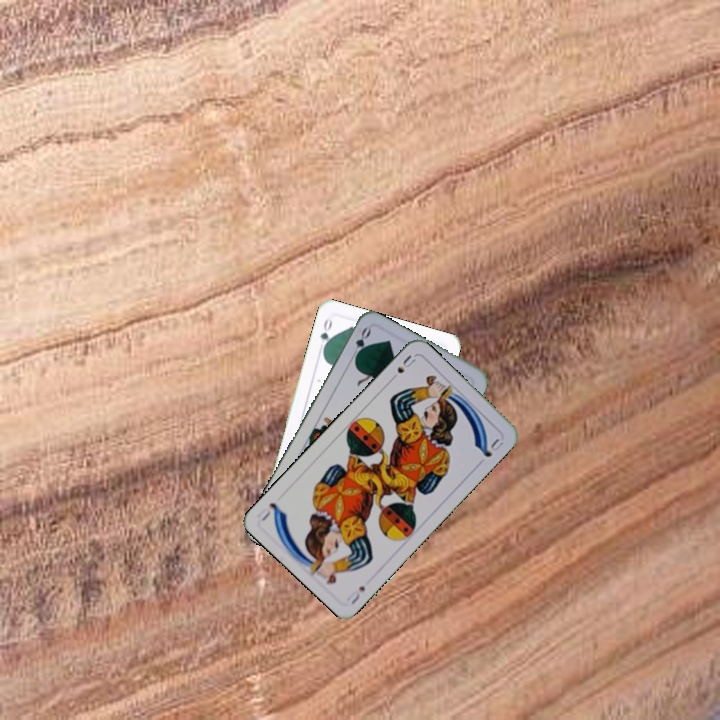GO: (347, 323, 374, 363), (316, 315, 335, 354)
SU: (386, 351, 418, 384), (343, 582, 368, 607)
